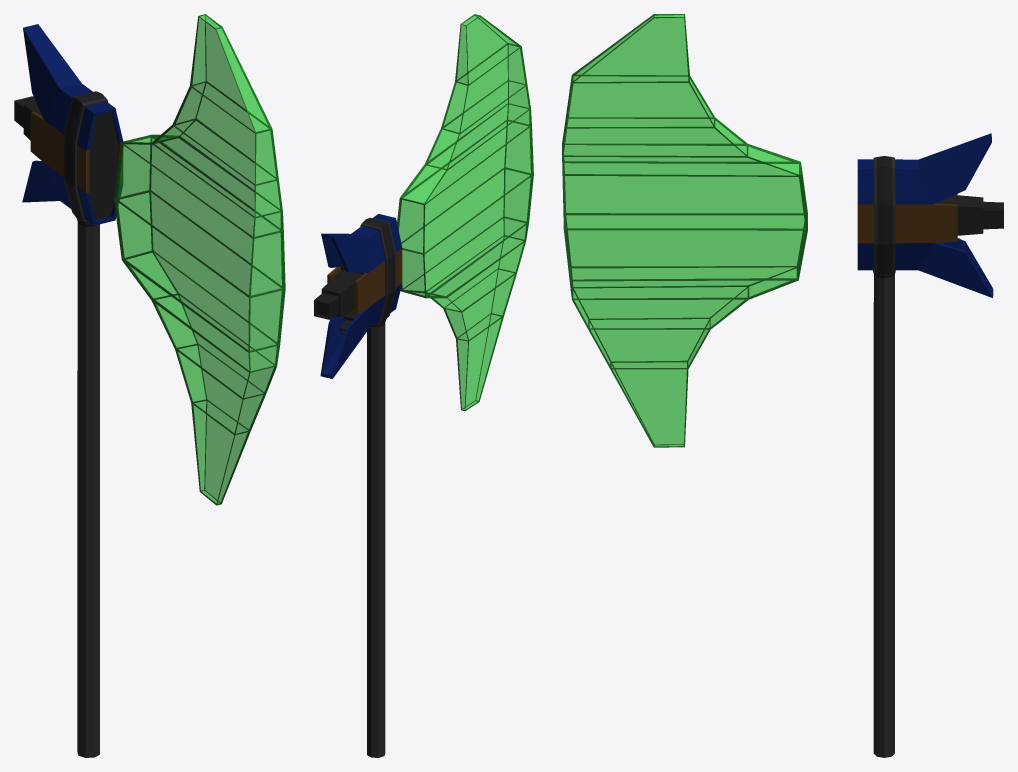
The model's file is EnergyMarauder_Model_Axe_Default(ver0.12)_FantasyTactics.fbx.
3 renders of one model, left to right at view 1: azimuth 30°, elevation 25°; view 2: azimuth 150°, elevation 25°; view 3: azimuth 270°, elevation 25°, orthographic. The views are drawn at different scales.
Parts seen in each view (by area): view 1: Energy Axe; view 2: Energy Axe; view 3: Energy Axe.
Boxes of the visible parts, left/top/right/bottom form: Energy Axe: left=14, top=14, right=285, bottom=757; Energy Axe: left=314, top=14, right=533, bottom=757; Energy Axe: left=562, top=14, right=1003, bottom=757.
Bounding box in the file's own units: 26.07 × 485 × 263.
